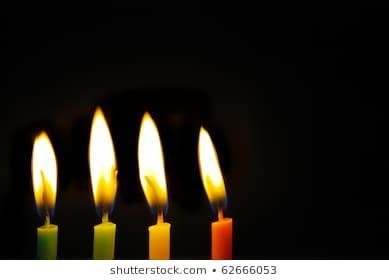fire: (136, 109, 166, 218), (89, 101, 117, 215), (197, 122, 226, 214), (30, 127, 58, 221)
